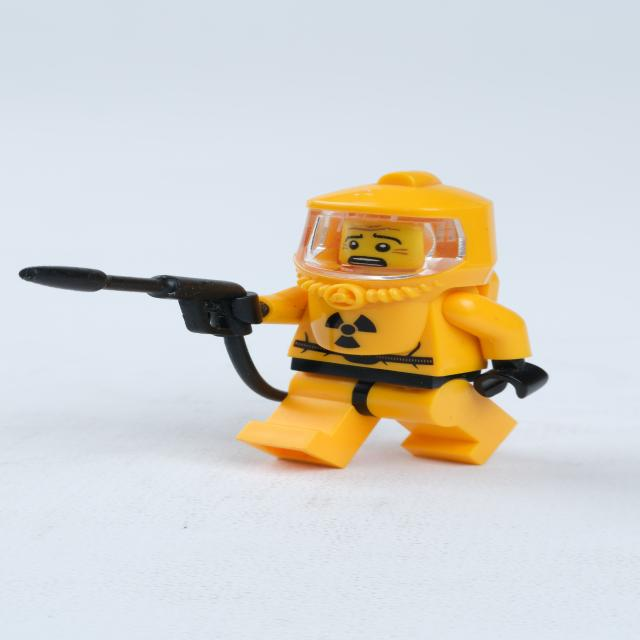Plastic: (11, 140, 578, 542)
